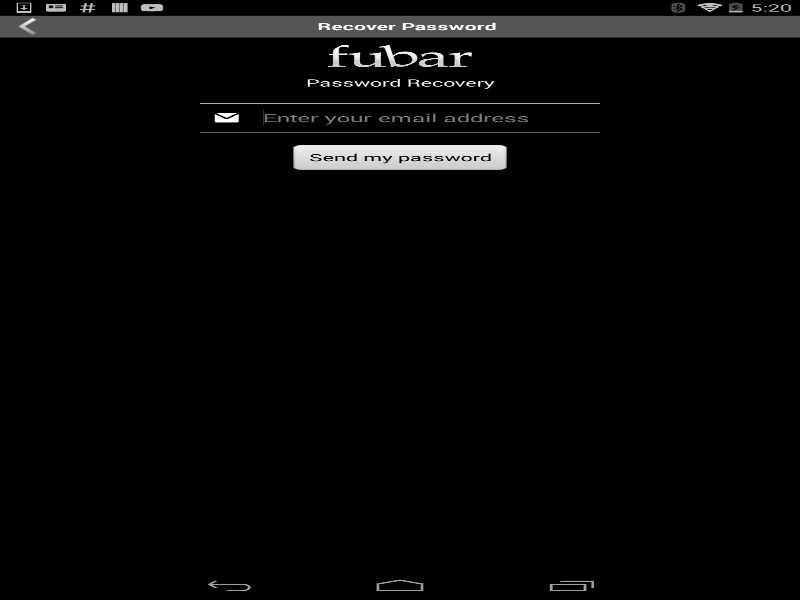Button: (293, 145, 506, 170), (13, 17, 53, 35), (746, 17, 786, 35)
Input: (252, 103, 585, 131)
